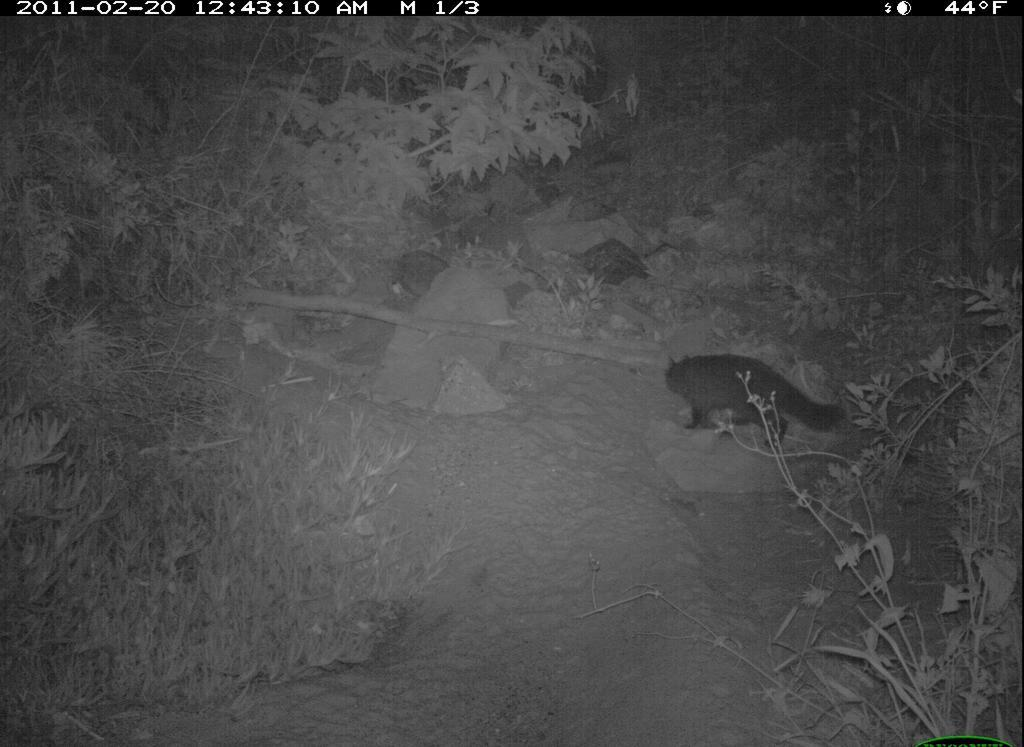cat: (646, 331, 863, 486)
